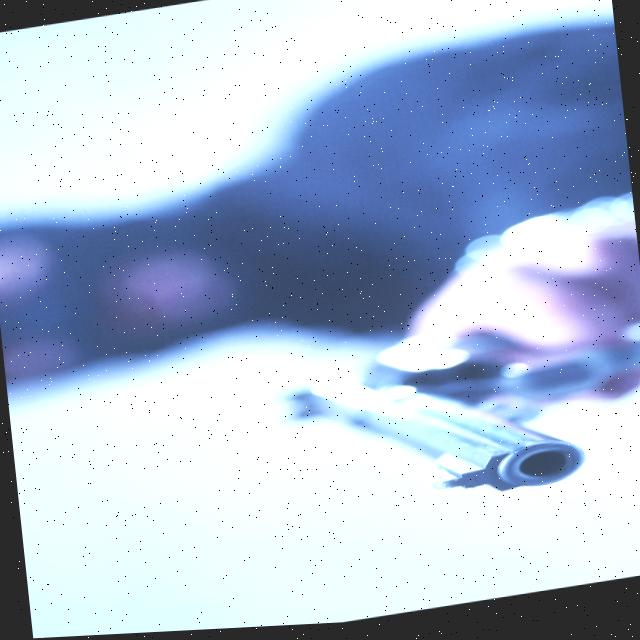pistol: (288, 313, 640, 528)
